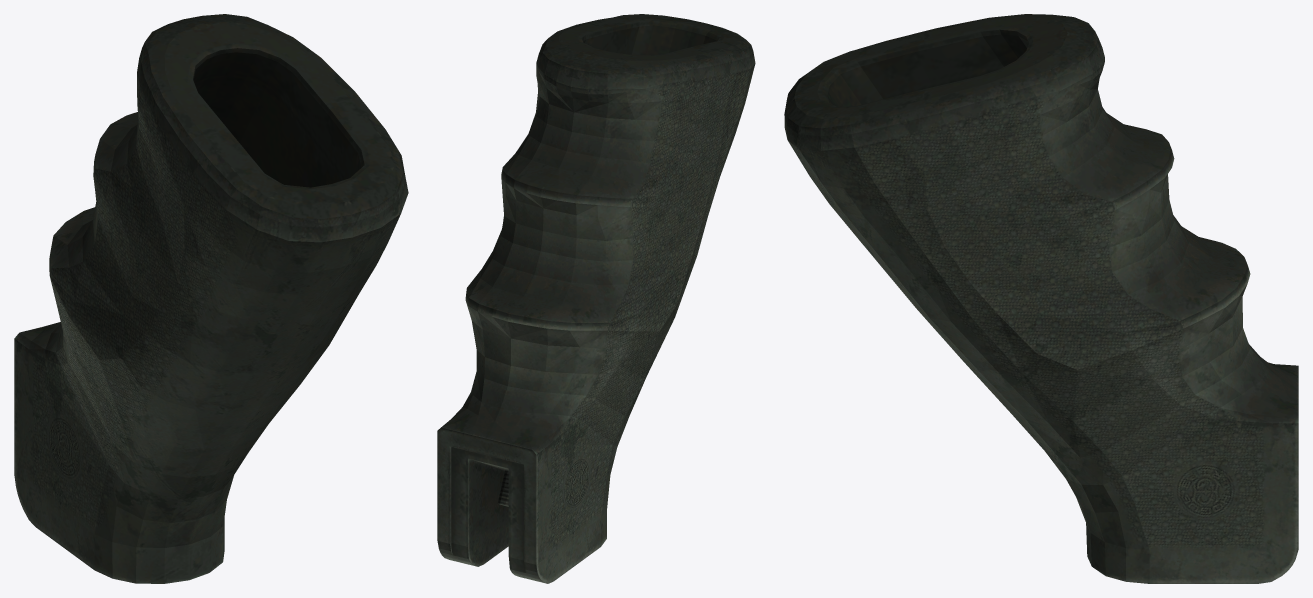
The picture shows the model from 3 angles, left to right: view 1: azimuth 30°, elevation 25°; view 2: azimuth 150°, elevation 25°; view 3: azimuth 270°, elevation 25°; orthographic projection. The views are drawn at different scales.
Visible parts, largest first — view 1: TW_57c55f112459772d28133310_PZ_Import; view 2: TW_57c55f112459772d28133310_PZ_Import; view 3: TW_57c55f112459772d28133310_PZ_Import.
Boxes of the visible parts, x1,y1,x2,y2 form: TW_57c55f112459772d28133310_PZ_Import: [14, 14, 408, 583]; TW_57c55f112459772d28133310_PZ_Import: [437, 14, 755, 583]; TW_57c55f112459772d28133310_PZ_Import: [784, 14, 1298, 583].
Bounding box in the file's own units: 0.0208 × 0.052 × 0.0584.
1 material, 1 textured.
